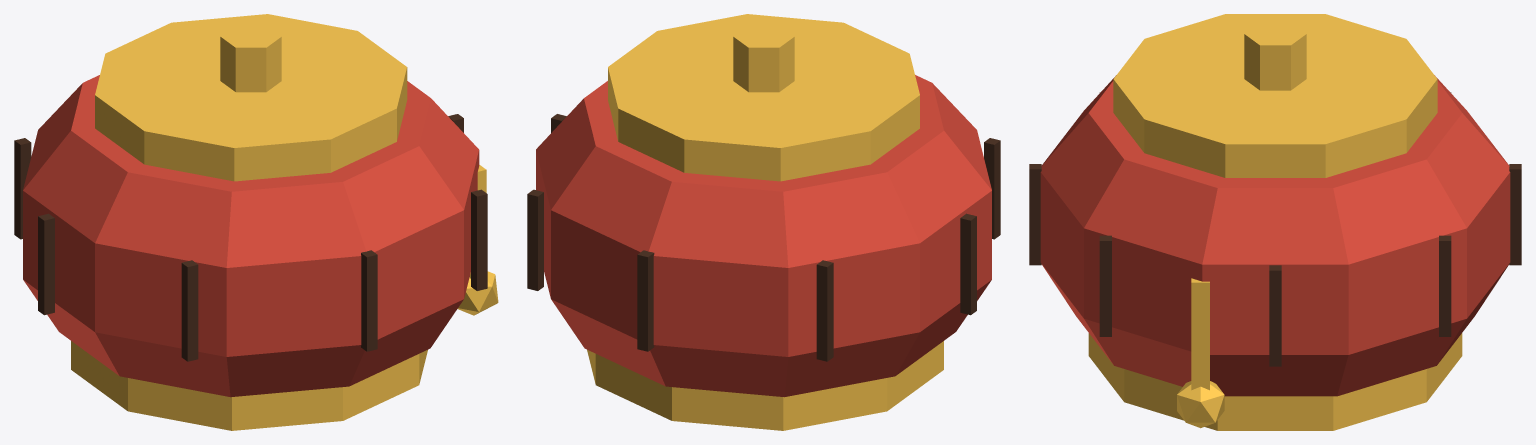
Rendered from CatCafe_Accessory_LanternHat.glb.
The picture shows the model from 3 angles, left to right: view 1: azimuth 30°, elevation 25°; view 2: azimuth 150°, elevation 25°; view 3: azimuth 270°, elevation 25°; orthographic projection.
Parts seen in each view (by area): view 1: CatCafe_Accessory_LanternHat_Glow, CatCafe_Accessory_LanternHat; view 2: CatCafe_Accessory_LanternHat_Glow, CatCafe_Accessory_LanternHat; view 3: CatCafe_Accessory_LanternHat_Glow, CatCafe_Accessory_LanternHat.
Boxes of the visible parts, <box> form: CatCafe_Accessory_LanternHat_Glow: <box>23,75,479,397</box>; CatCafe_Accessory_LanternHat: <box>14,14,498,430</box>; CatCafe_Accessory_LanternHat_Glow: <box>536,75,991,397</box>; CatCafe_Accessory_LanternHat: <box>527,14,1000,430</box>; CatCafe_Accessory_LanternHat_Glow: <box>1040,75,1510,396</box>; CatCafe_Accessory_LanternHat: <box>1029,14,1521,430</box>.
Bounding box in the file's own units: 0.79 × 0.57 × 0.79.
1 material, 1 textured.
